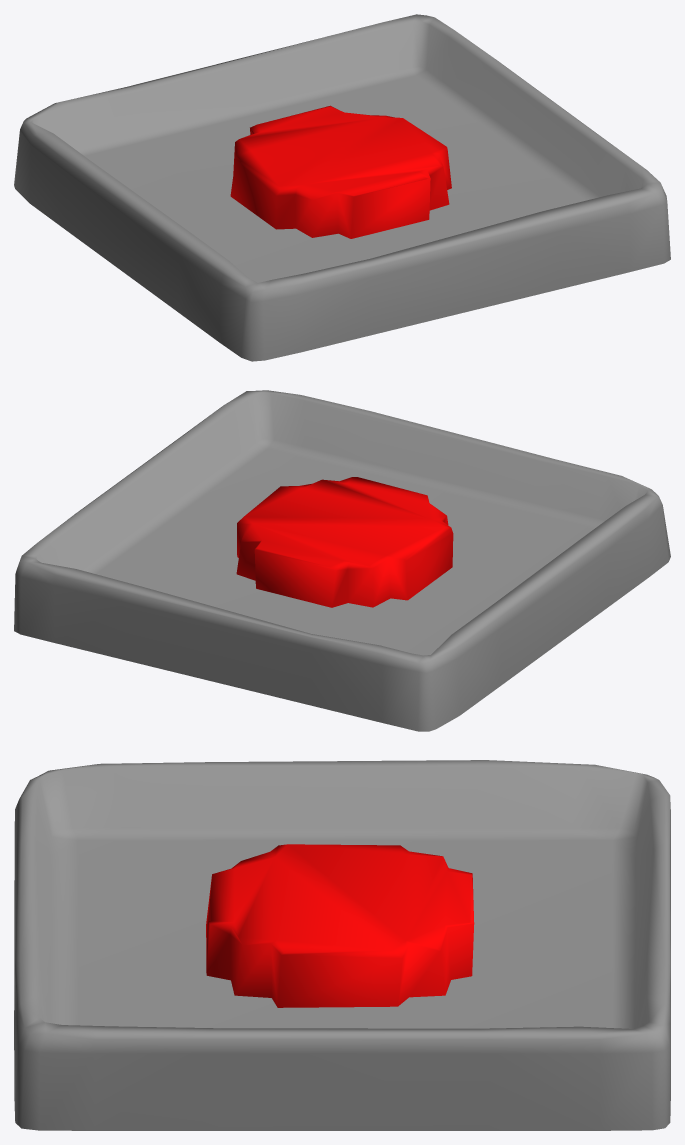
The model's file is Temple_Recepticle_O.FBX.
The picture shows the model from 3 angles, top to bottom: view 1: azimuth 30°, elevation 25°; view 2: azimuth 150°, elevation 25°; view 3: azimuth 270°, elevation 25°; orthographic projection. The views are drawn at different scales.
Parts seen in each view (by area): view 1: Recepticle_O; view 2: Recepticle_O; view 3: Recepticle_O.
Boxes of the visible parts, bbox=[...] form: Recepticle_O: bbox=[14, 14, 670, 361]; Recepticle_O: bbox=[14, 390, 670, 731]; Recepticle_O: bbox=[14, 760, 670, 1130].
Bounding box in the file's own units: 296 × 48.64 × 296.
